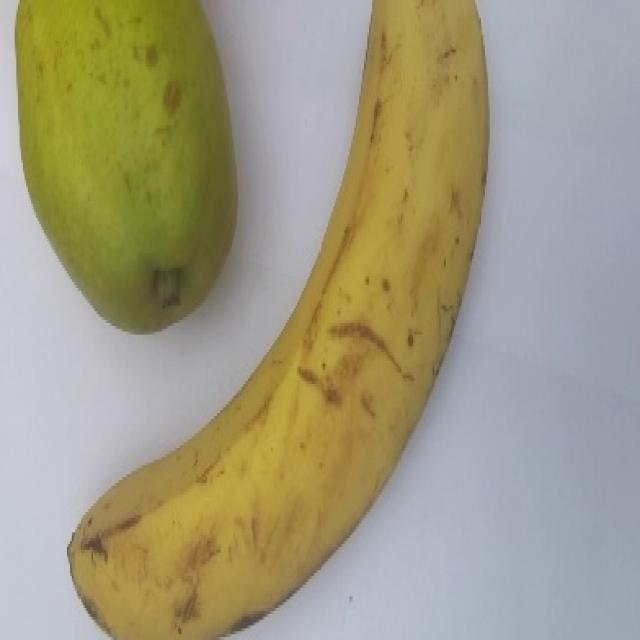Banana: (68, 2, 491, 640)
